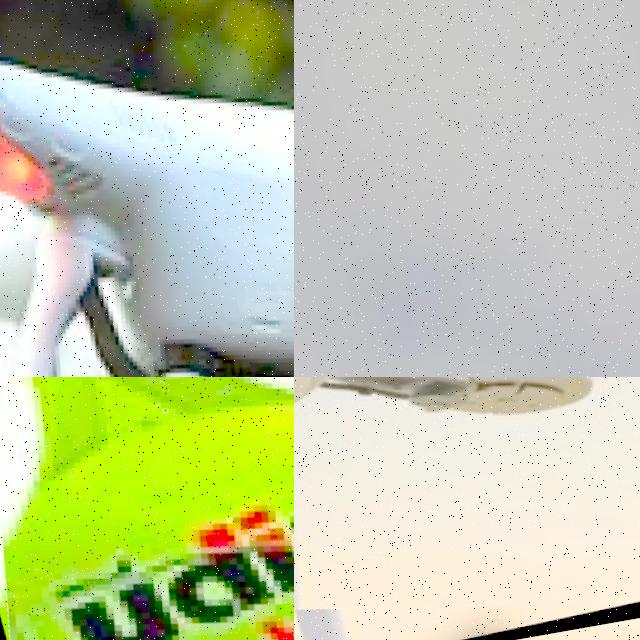0: (0, 0, 294, 377)
drone: (294, 377, 640, 640), (0, 377, 294, 640)
